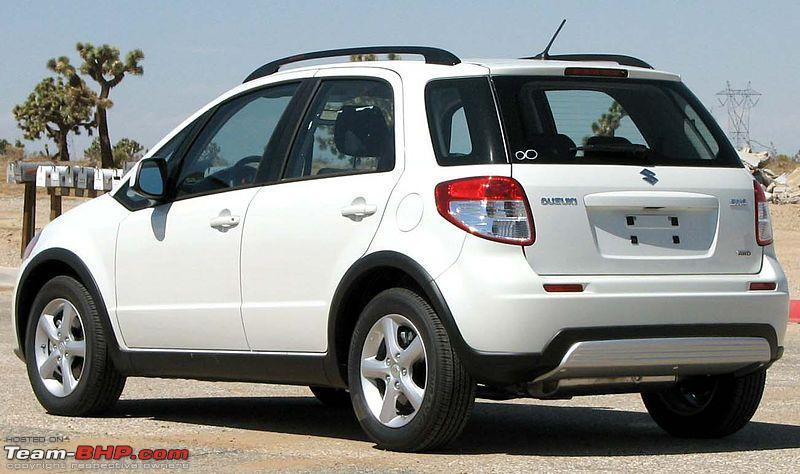Hatchback: (11, 19, 789, 453)
